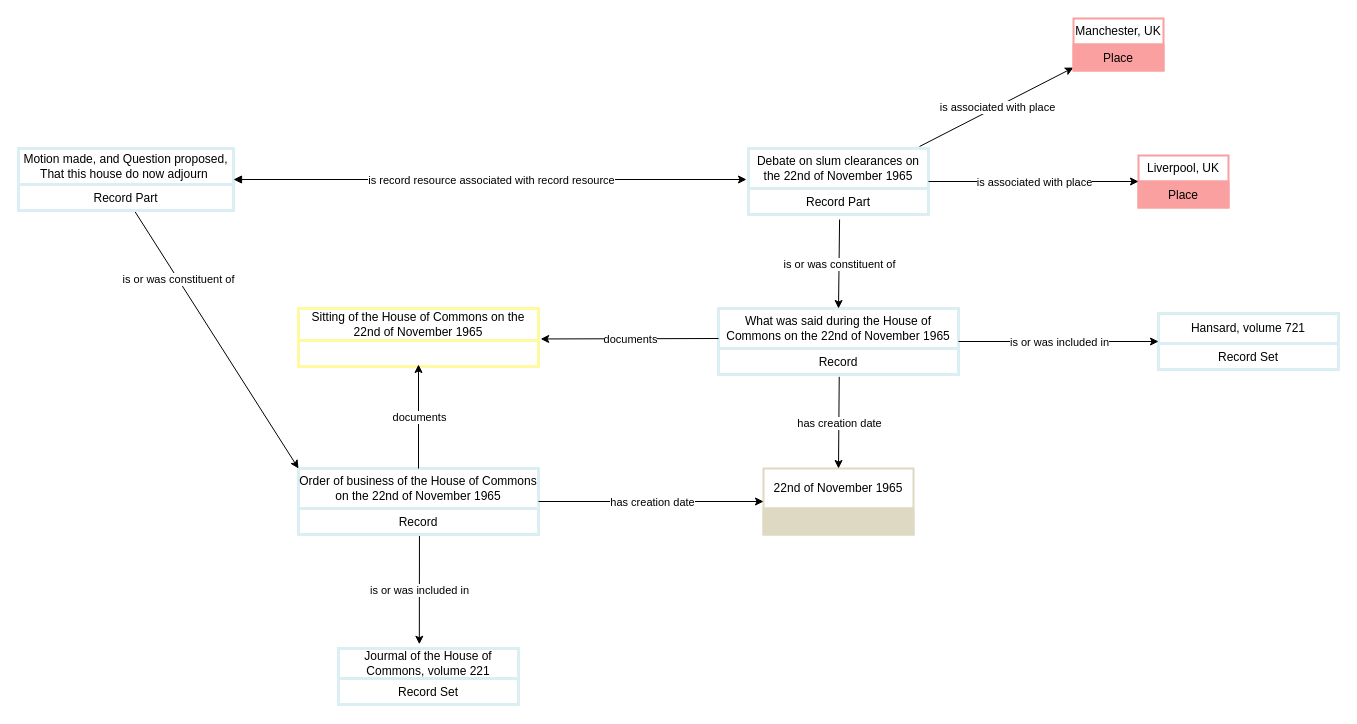
The diagram is 1357 pixels wide and 724 high, and some of its shapes have lost their labels. The centre of each missing label's shape, as x and y in pixels:
Activity: (418,353)
Date: (838,521)
